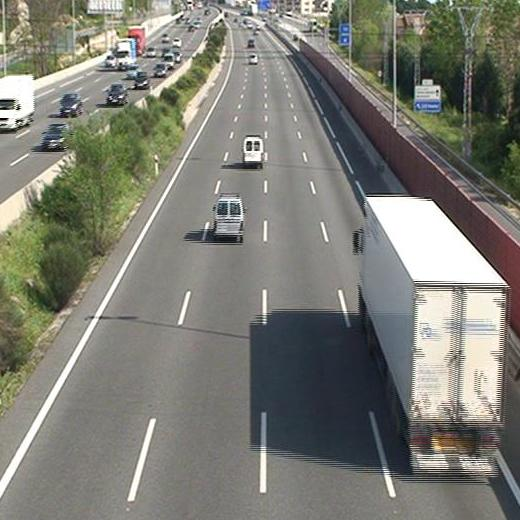car: (249, 53, 258, 63)
truck: (357, 197, 506, 474)
van: (215, 197, 245, 238), (243, 137, 263, 166)
